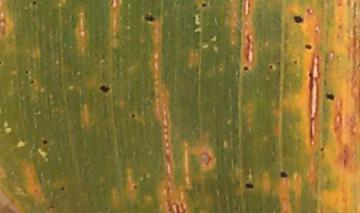tarspot: (307, 71, 315, 90), (99, 84, 111, 94), (292, 15, 304, 25), (324, 91, 335, 100), (243, 182, 254, 191), (303, 42, 313, 51), (278, 170, 288, 179), (144, 15, 154, 23), (42, 138, 49, 147), (22, 69, 31, 76), (47, 203, 56, 210), (267, 63, 275, 70), (58, 185, 67, 191), (240, 66, 249, 72), (292, 59, 299, 66), (132, 183, 139, 190), (200, 3, 208, 9), (130, 112, 137, 118), (31, 1, 38, 7), (319, 146, 325, 153), (28, 79, 36, 84), (1, 59, 3, 66)
